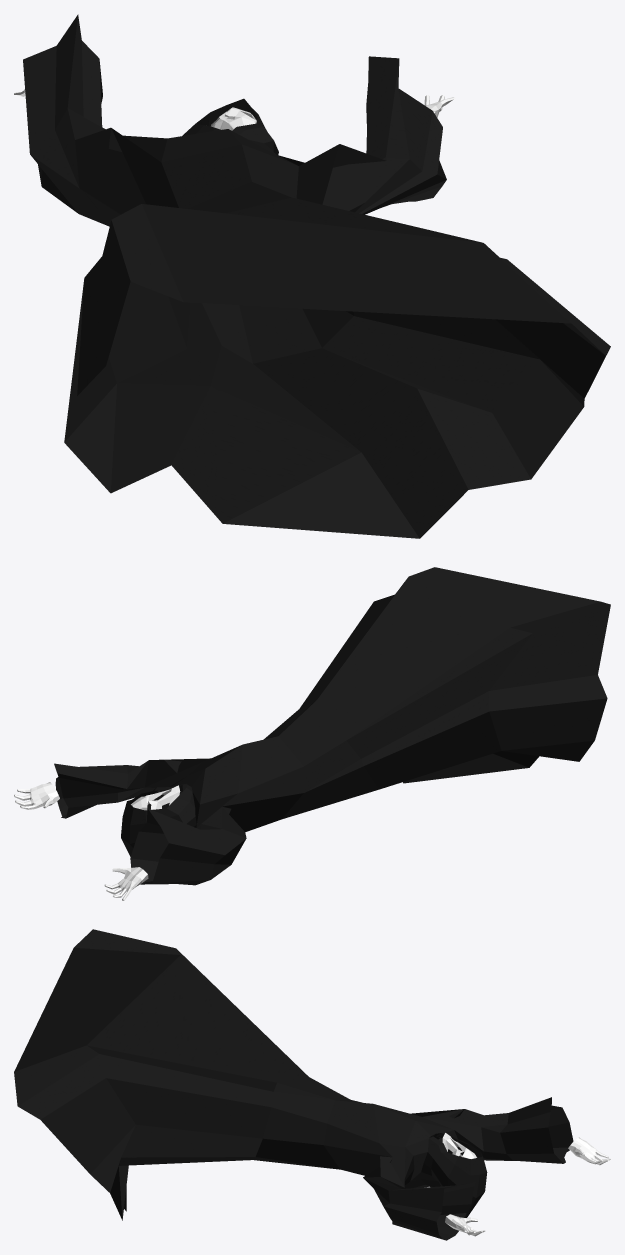
File: ReaperDead(90).obj
The picture shows the model from 3 angles, top to bottom: view 1: azimuth 30°, elevation 25°; view 2: azimuth 150°, elevation 25°; view 3: azimuth 270°, elevation 25°; orthographic projection. The views are drawn at different scales.
Visible parts, largest first — view 1: Plane003; view 2: Plane003; view 3: Plane003.
Boxes of the visible parts, left/top/right/bottom form: Plane003: left=14, top=14, right=610, bottom=538; Plane003: left=14, top=567, right=610, bottom=900; Plane003: left=14, top=929, right=610, bottom=1240.
Size of the model in its own units: 213 by 106 by 292.
